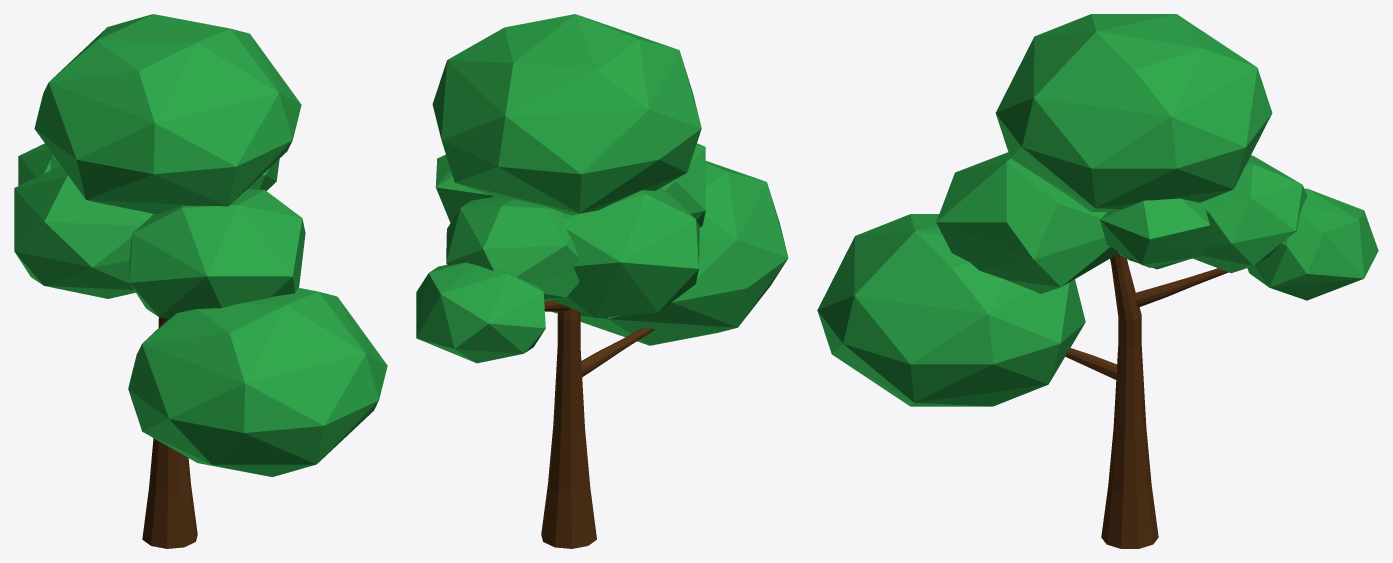
The model's file is Maple_Tree_Tall.fbx.
3 renders of one model, left to right at view 1: azimuth 30°, elevation 25°; view 2: azimuth 150°, elevation 25°; view 3: azimuth 270°, elevation 25°, orthographic.
Visible parts, largest first — view 1: Maple Tree Tall; view 2: Maple Tree Tall; view 3: Maple Tree Tall.
Part boxes in pixels (bbox=[...]): Maple Tree Tall: bbox=[14, 14, 387, 548]; Maple Tree Tall: bbox=[416, 14, 788, 548]; Maple Tree Tall: bbox=[817, 14, 1378, 548].
Size of the model in its own units: 222 by 406 by 404.
